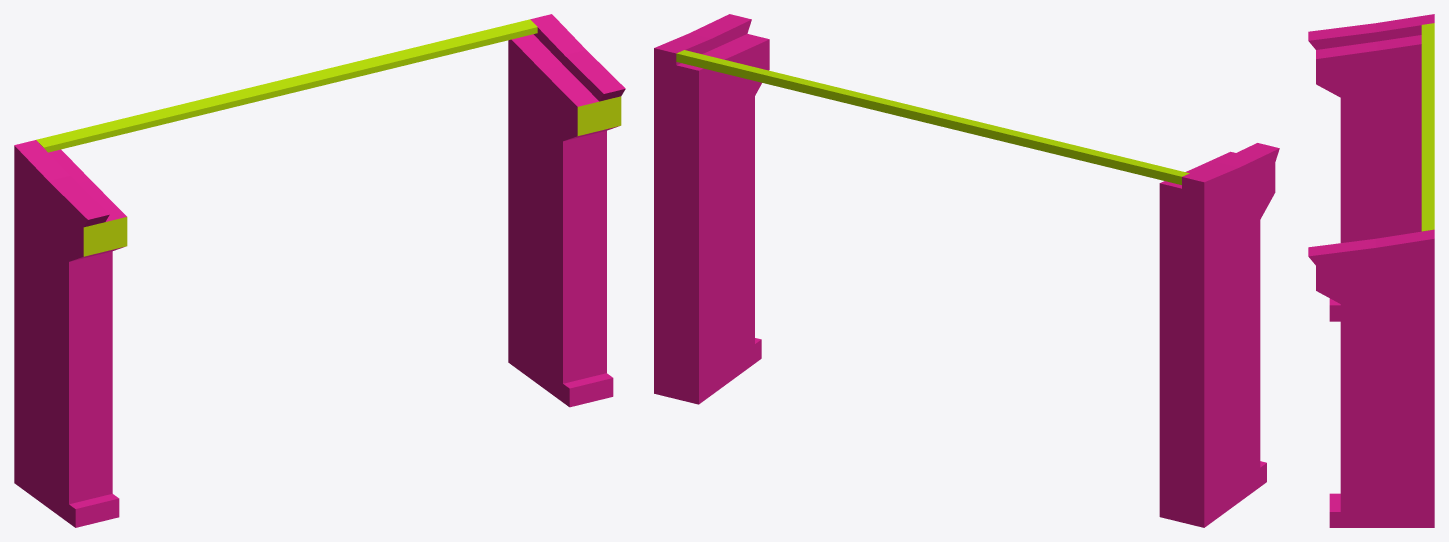
The model's file is Support Wall.fbx.
3 views of the same model, side by side, from view 1: azimuth 30°, elevation 25°; view 2: azimuth 150°, elevation 25°; view 3: azimuth 270°, elevation 25° (orthographic). The views are drawn at different scales.
Visible parts, largest first — view 1: Side Pillar.001; view 2: Side Pillar.001; view 3: Side Pillar.001.
Part boxes in pixels (x1,y1,x2,y2): Side Pillar.001: (14,14,625,527); Side Pillar.001: (654,14,1279,527); Side Pillar.001: (1308,14,1434,527).
Size of the model in its own units: 2388 by 1434 by 568.
